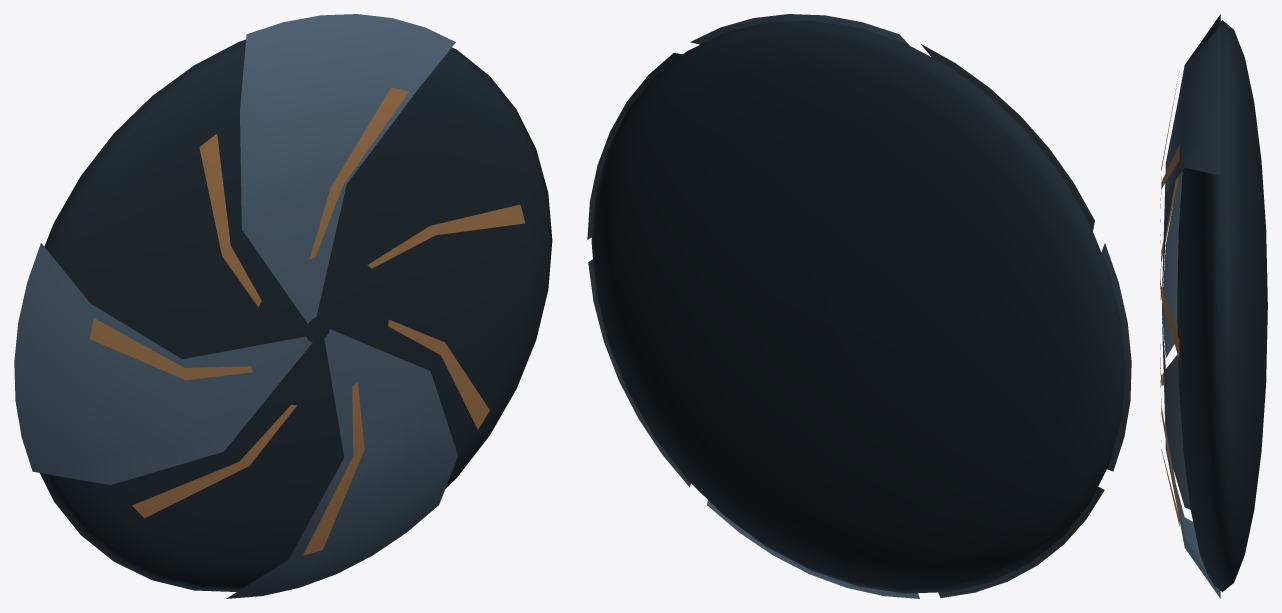
File: boss_iris.glb
3 renders of one model, left to right at view 1: azimuth 30°, elevation 25°; view 2: azimuth 150°, elevation 25°; view 3: azimuth 270°, elevation 25°, orthographic. The views are drawn at different scales.
Parts seen in each view (by area): view 1: boss_iris; view 2: boss_iris; view 3: boss_iris.
Boxes of the visible parts, x1,y1,x2,y2 form: boss_iris: (14, 14, 552, 598); boss_iris: (587, 14, 1131, 598); boss_iris: (1160, 14, 1267, 598).
Size of the model in its own units: 1.55 by 1.55 by 0.285.
